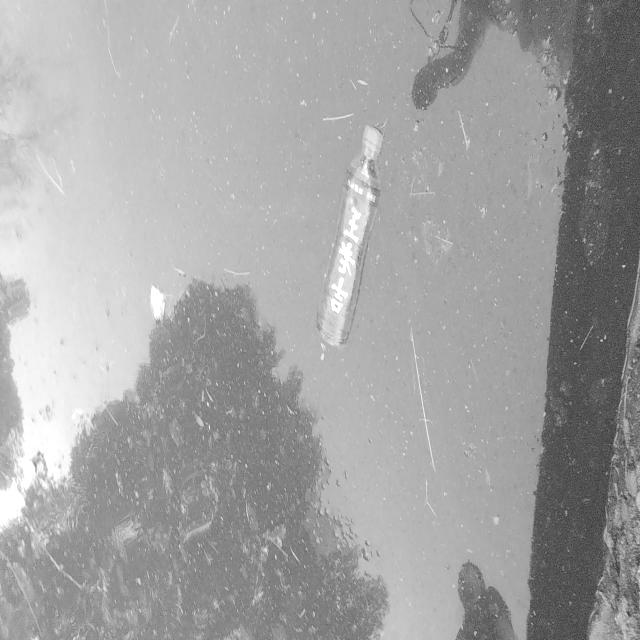bottle: (293, 118, 402, 356)
